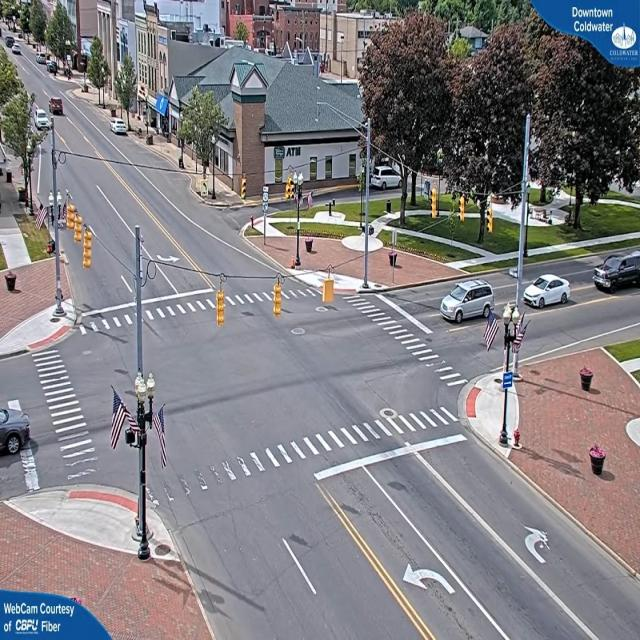car: (438, 278, 493, 326), (593, 252, 640, 295), (0, 402, 35, 458), (524, 272, 571, 308), (35, 110, 52, 131), (112, 120, 130, 138), (50, 97, 66, 116), (13, 45, 23, 55)
